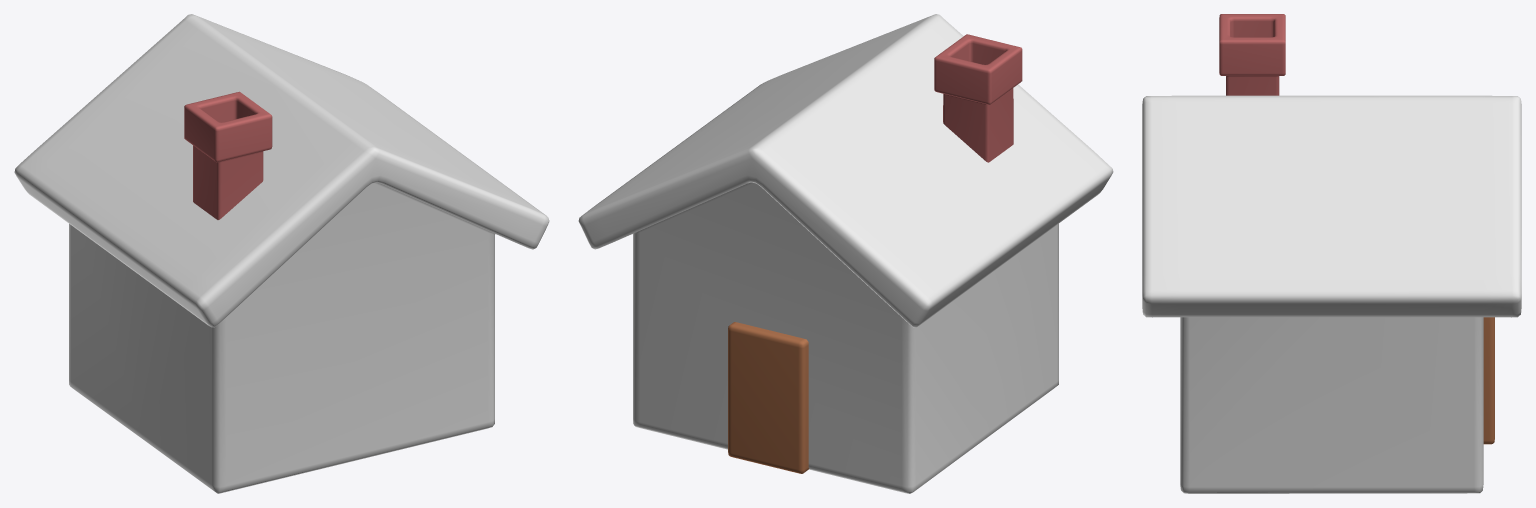
The model's file is house.gltf.
The picture shows the model from 3 angles, left to right: view 1: azimuth 30°, elevation 25°; view 2: azimuth 150°, elevation 25°; view 3: azimuth 270°, elevation 25°; orthographic projection.
Visible parts, largest first — view 1: House; view 2: House; view 3: House.
Boxes of the visible parts, x1,y1,x2,y2 form: House: [14, 14, 549, 493]; House: [578, 14, 1113, 493]; House: [1142, 14, 1521, 493].
Size of the model in its own units: 5.58 by 5.3 by 5.15.
